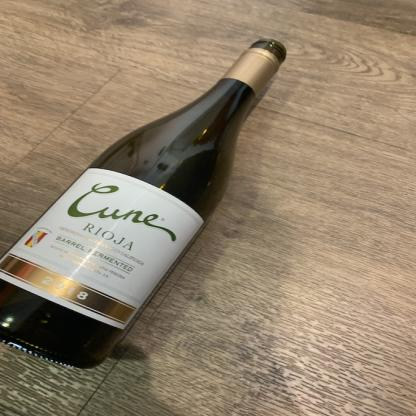trash: (1, 38, 292, 374)
